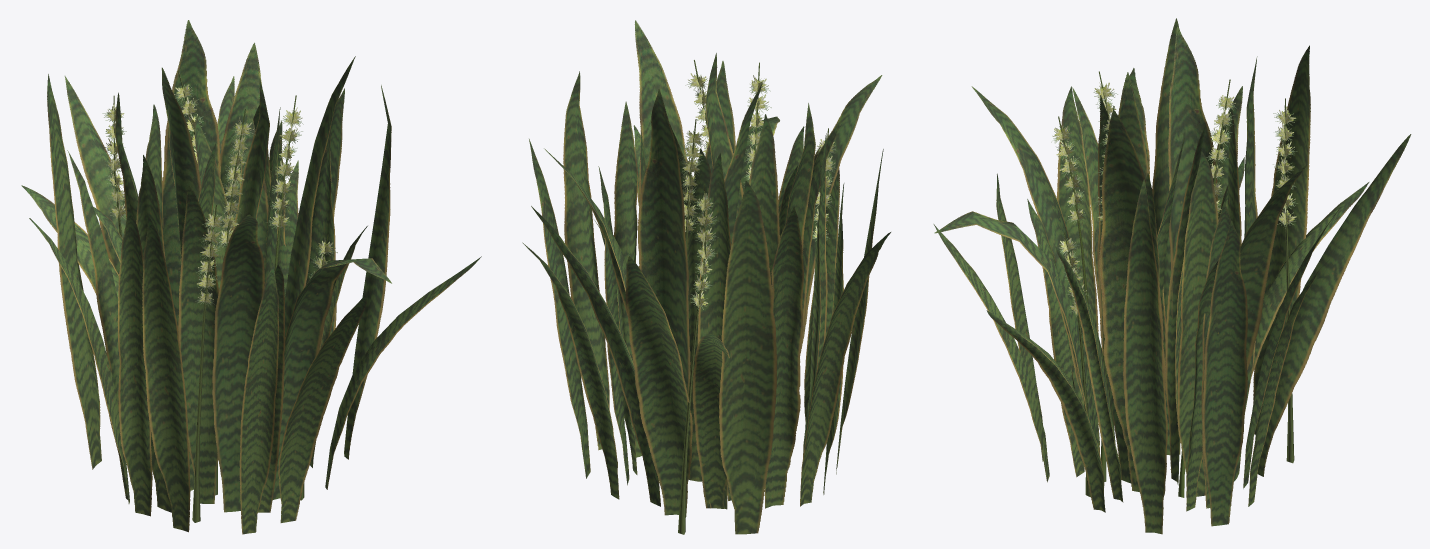
Rendered from Sansevieria_Trifasciata_Spring_Adult.glb.
3 renders of one model, left to right at view 1: azimuth 30°, elevation 25°; view 2: azimuth 150°, elevation 25°; view 3: azimuth 270°, elevation 25°, orthographic.
Visible parts, largest first — view 1: Sansevieria_Trifasciata_Spring_Adult__LOD3; view 2: Sansevieria_Trifasciata_Spring_Adult__LOD3; view 3: Sansevieria_Trifasciata_Spring_Adult__LOD3.
Part boxes in pixels (left/top/right/bottom): Sansevieria_Trifasciata_Spring_Adult__LOD3: left=21, top=20, right=481, bottom=534; Sansevieria_Trifasciata_Spring_Adult__LOD3: left=522, top=20, right=890, bottom=534; Sansevieria_Trifasciata_Spring_Adult__LOD3: left=933, top=18, right=1411, bottom=534.
Bounding box in the file's own units: 0.9597 × 1.07 × 1.1.
3 materials, 3 textured.
